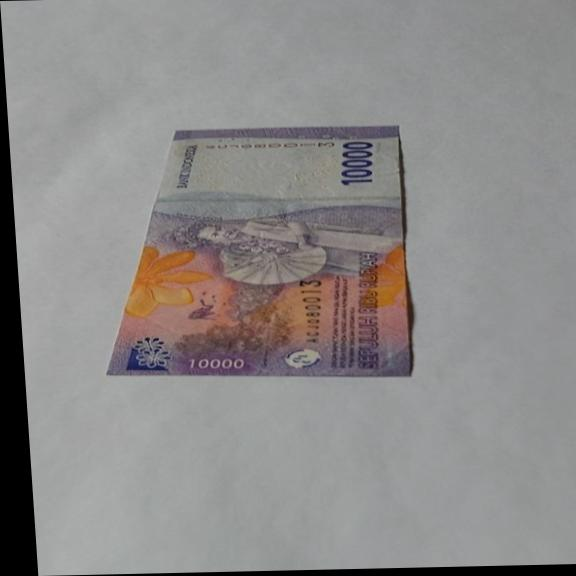Kertas: (88, 123, 419, 384)
